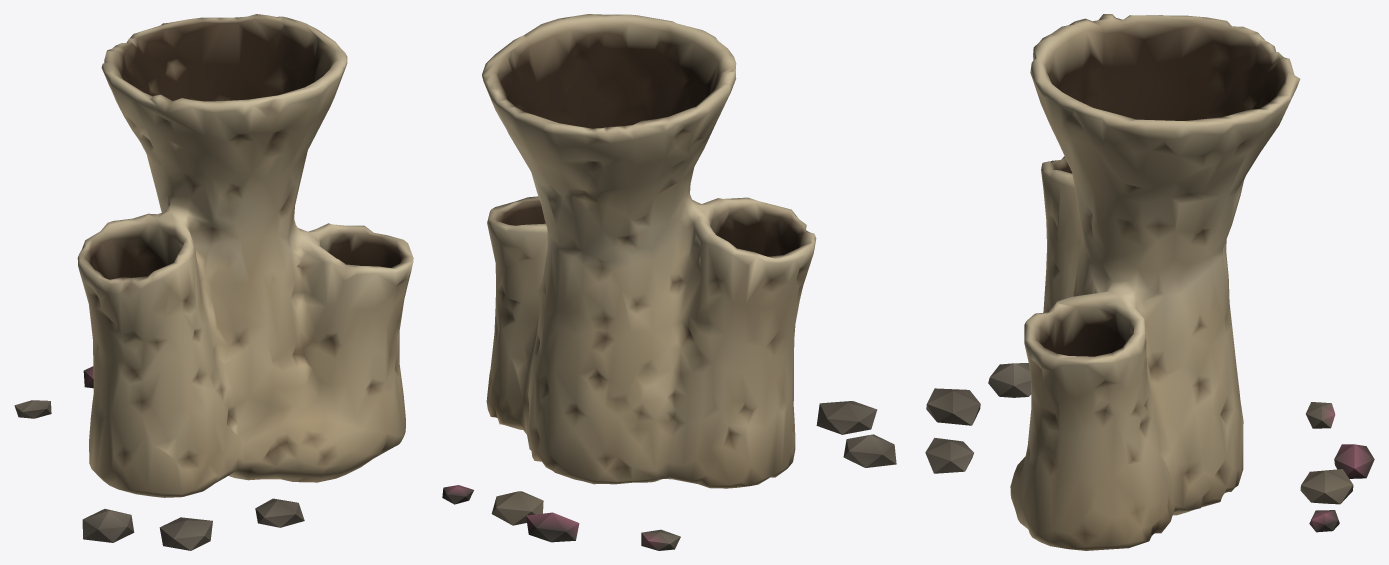
The model's file is Eocyathispongia.fbx.
3 views of the same model, side by side, from view 1: azimuth 30°, elevation 25°; view 2: azimuth 150°, elevation 25°; view 3: azimuth 270°, elevation 25° (orthographic). The views are drawn at different scales.
Parts seen in each view (by area): view 1: Eocyathispongia; view 2: Eocyathispongia; view 3: Eocyathispongia.
Boxes of the visible parts, box(x1,y1,x2,y2) form: Eocyathispongia: box(14, 14, 413, 550); Eocyathispongia: box(442, 14, 896, 550); Eocyathispongia: box(925, 14, 1374, 550).
Size of the model in its own units: 1.01 by 1.09 by 0.9929.
